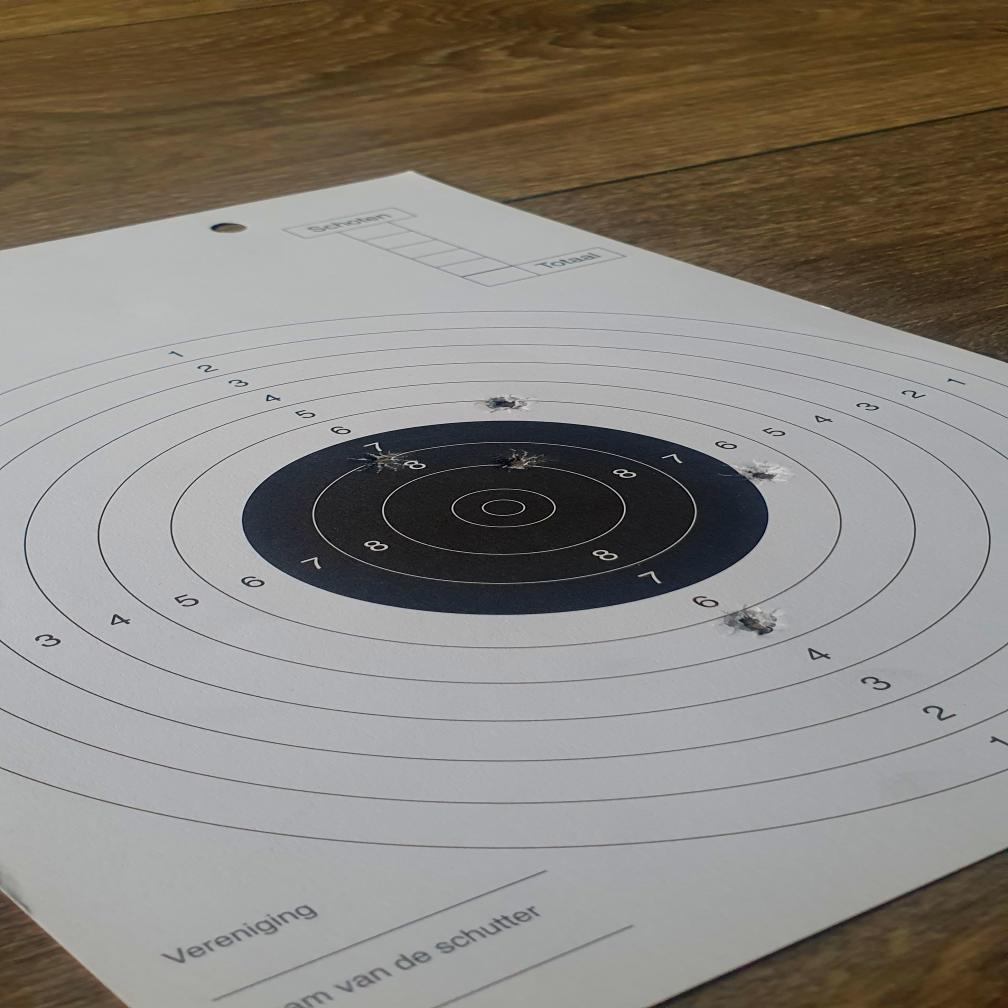6: (717, 605, 790, 636), (475, 394, 539, 415)
7: (718, 460, 799, 485)
8: (344, 451, 410, 474)
9: (481, 447, 552, 473)
Target: (0, 309, 1008, 850)
black_contour: (240, 418, 772, 617)
